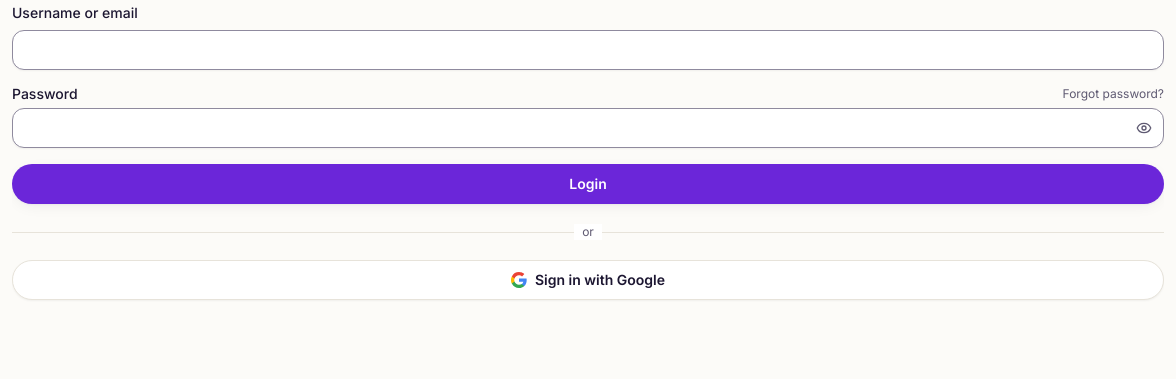
Test: LoginForm › shows error message when the identifier cannot be resolved
In the field with test id "identifier-input": (588, 50) x1=12 y1=30 x2=1164 y2=70, type "unknownuser"
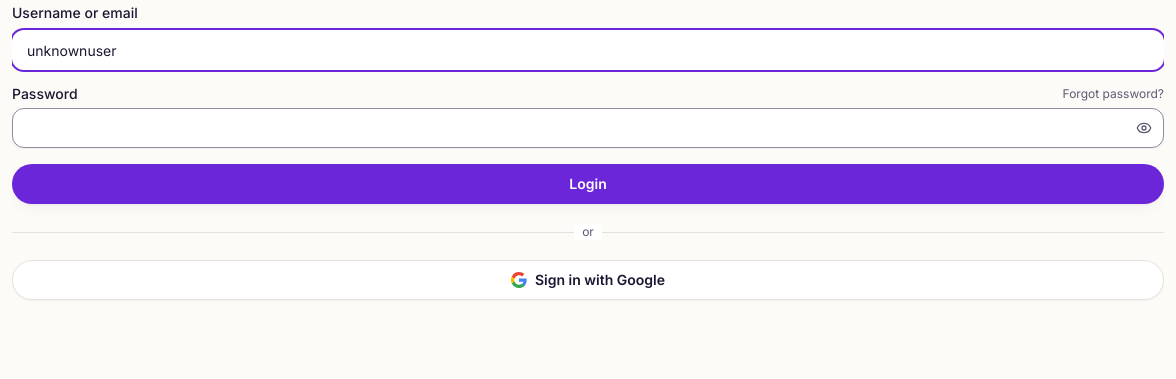
In the password field with test id "password-input": (588, 128) x1=12 y1=108 x2=1164 y2=148, type "password123"
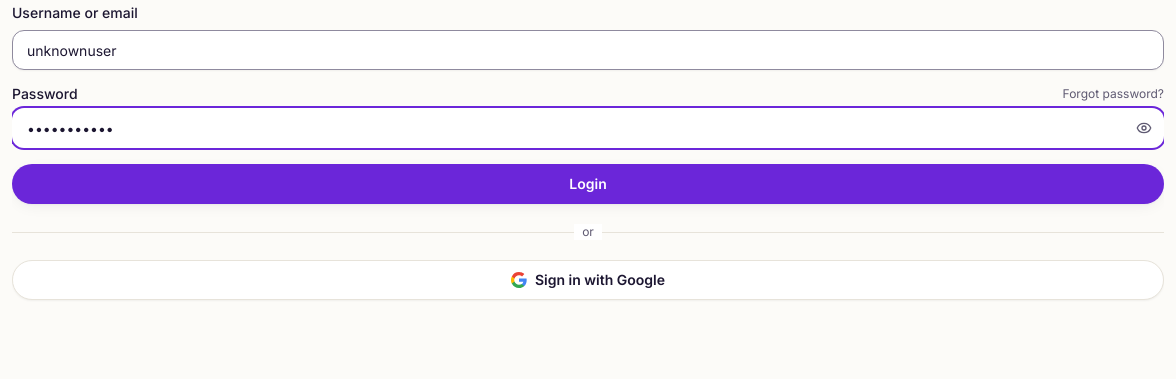
Click the button with test id "submit-button": (588, 184) x1=12 y1=164 x2=1164 y2=204
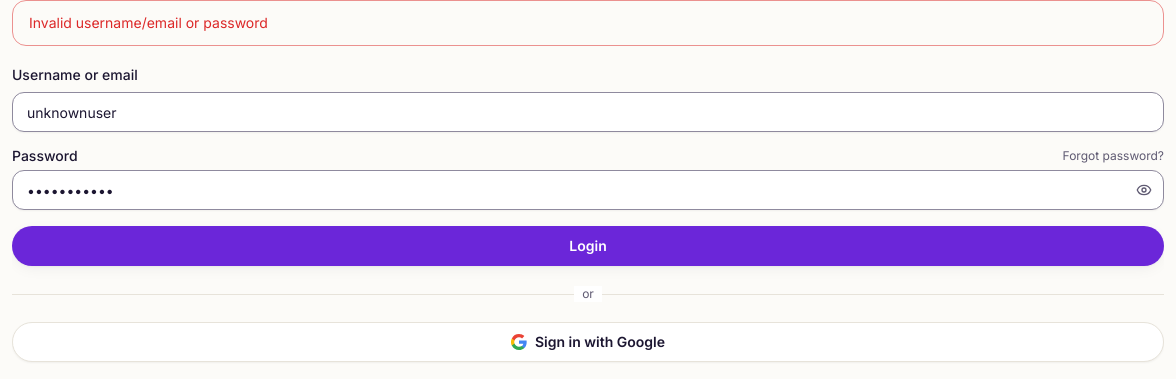
Expected: the text "Invalid username/email or password" is shown, x1=29 y1=14 x2=268 y2=31
